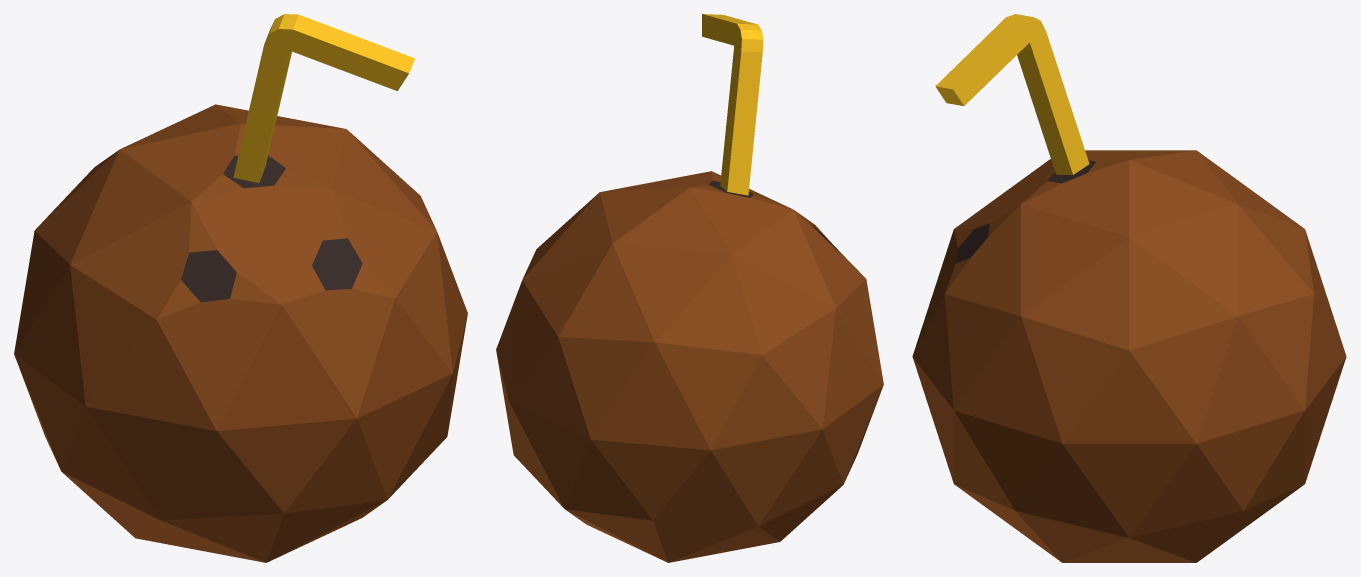
The model's file is CoconutDrink.fbx.
3 views of the same model, side by side, from view 1: azimuth 30°, elevation 25°; view 2: azimuth 150°, elevation 25°; view 3: azimuth 270°, elevation 25° (orthographic). The views are drawn at different scales.
Visible parts, largest first — view 1: CoconutDrink; view 2: CoconutDrink; view 3: CoconutDrink.
Boxes of the visible parts, x1=… form: CoconutDrink: x1=14, y1=14, x2=467, y2=562; CoconutDrink: x1=496, y1=14, x2=883, y2=562; CoconutDrink: x1=912, y1=14, x2=1346, y2=562.
Size of the model in its own units: 0.2606 by 0.3717 by 0.274.
